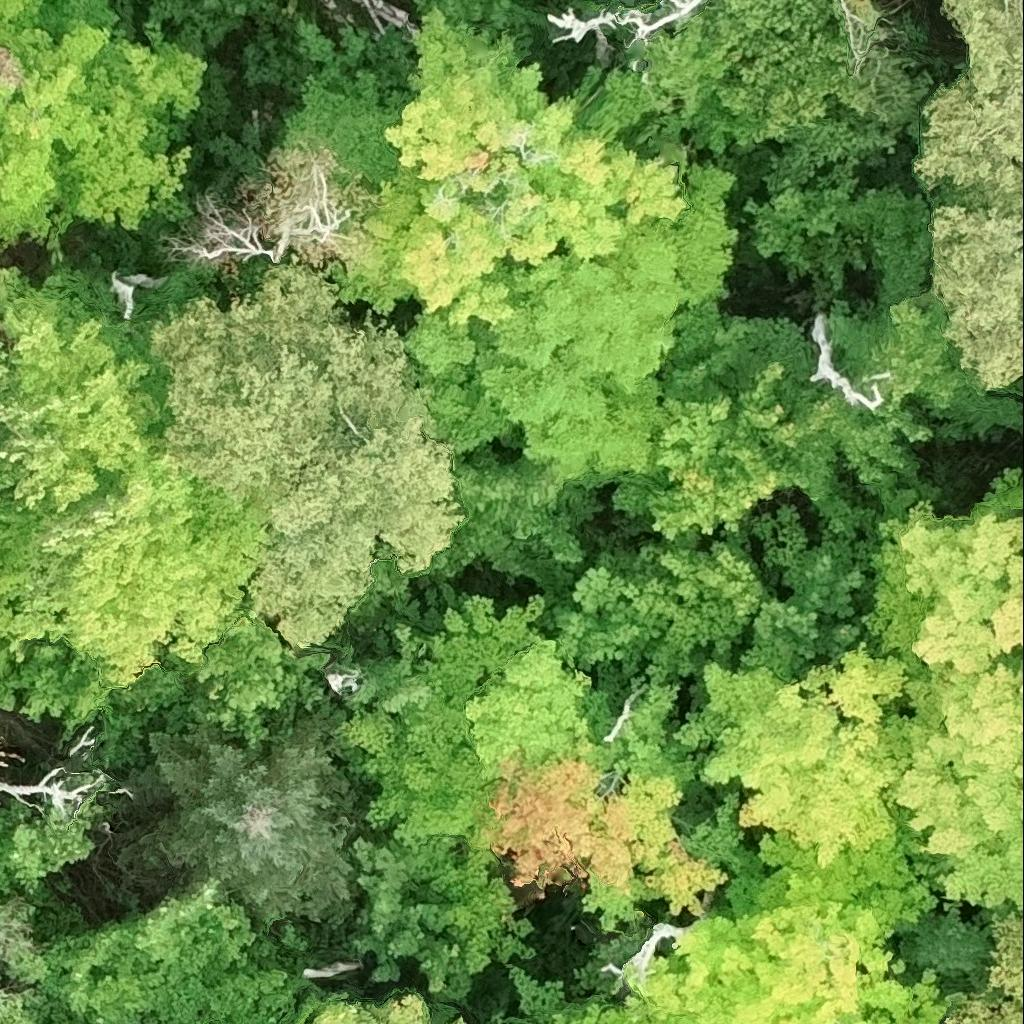crown: (280, 9, 736, 482), (0, 263, 329, 761), (336, 589, 766, 935), (151, 265, 465, 650), (677, 643, 943, 929), (871, 471, 1023, 911), (0, 0, 208, 262), (625, 874, 949, 1023), (7, 877, 316, 1023), (148, 715, 356, 926), (918, 0, 1023, 393), (352, 837, 537, 998), (226, 141, 369, 265), (0, 799, 103, 899), (158, 195, 265, 285), (512, 966, 673, 1023), (412, 0, 556, 54), (145, 0, 292, 51), (810, 315, 886, 408), (549, 0, 707, 39), (283, 991, 431, 1023), (985, 902, 1023, 1008), (947, 987, 1023, 1023), (0, 988, 47, 1023), (0, 46, 27, 83), (450, 1013, 469, 1023), (223, 1022, 229, 1023), (523, 1022, 527, 1023)
